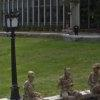Statue: (21, 58, 100, 100)
